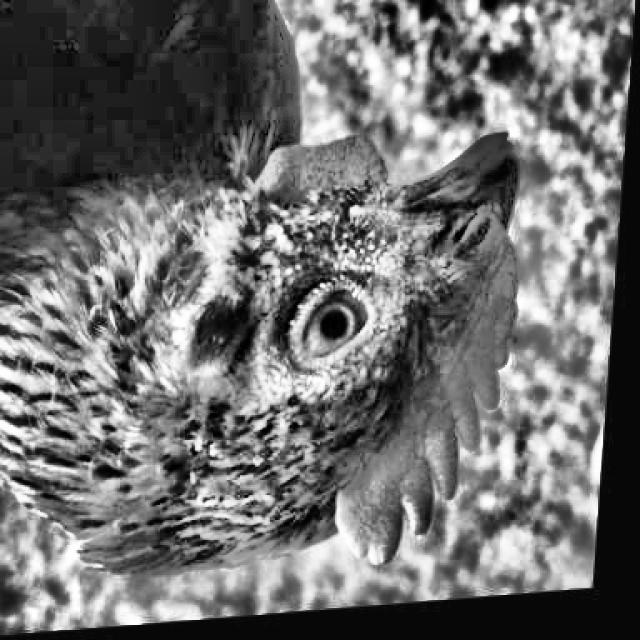Healthy: (270, 273, 393, 390)
